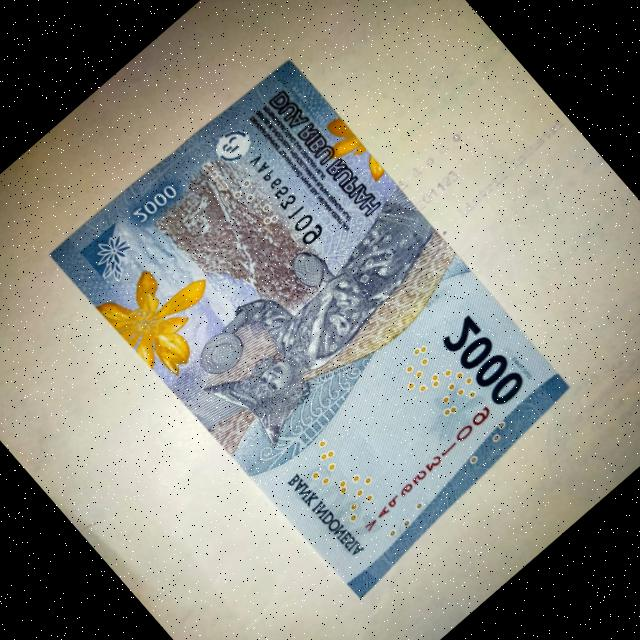2K: (36, 21, 618, 618)
